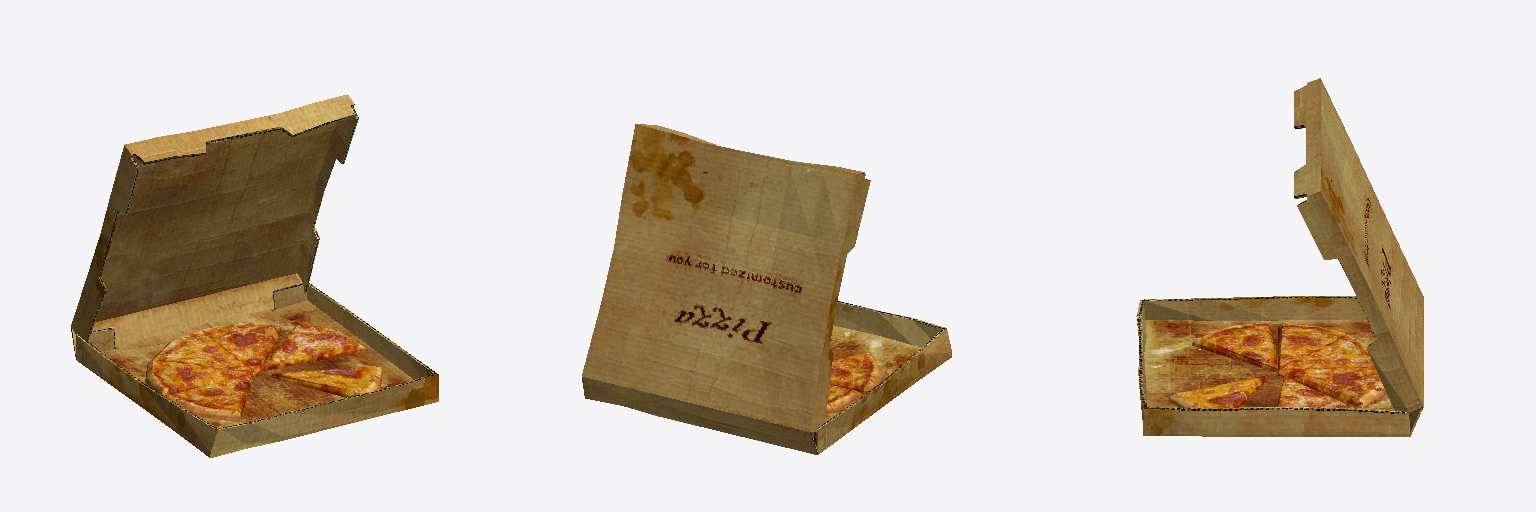
The picture shows the model from 3 angles: view 1: azimuth 30°, elevation 25°; view 2: azimuth 150°, elevation 25°; view 3: azimuth 270°, elevation 25°; orthographic projection.
Parts seen in each view (by area): view 1: pizza; view 2: pizza; view 3: pizza.
Part boxes in pixels (bbox=[...]): pizza: bbox=[71, 94, 438, 457]; pizza: bbox=[582, 124, 951, 454]; pizza: bbox=[1136, 78, 1423, 436].
Bounding box in the file's own units: 0.526 × 0.5267 × 0.5542.
1 materials, 1 textured.